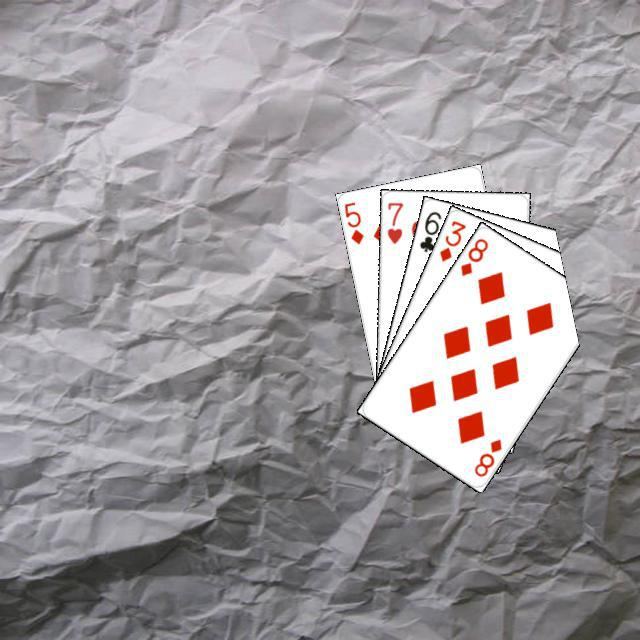3d: (434, 215, 468, 263)
5d: (339, 197, 365, 246)
6c: (414, 206, 443, 254)
7h: (382, 198, 405, 245)
8d: (469, 434, 504, 479), (456, 233, 490, 278)
